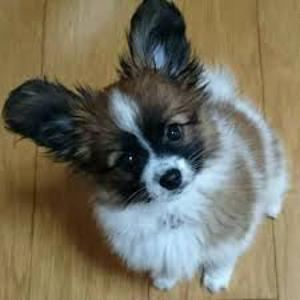yell: (2, 0, 287, 292)
